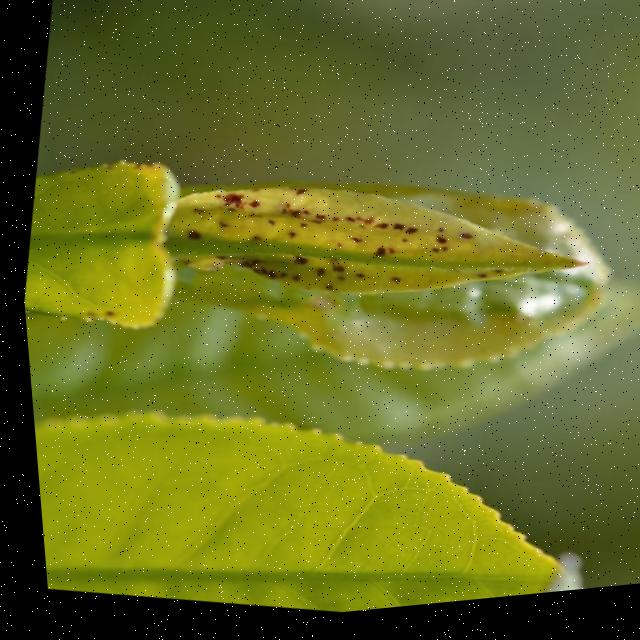Tea red scab: (181, 162, 507, 338)
